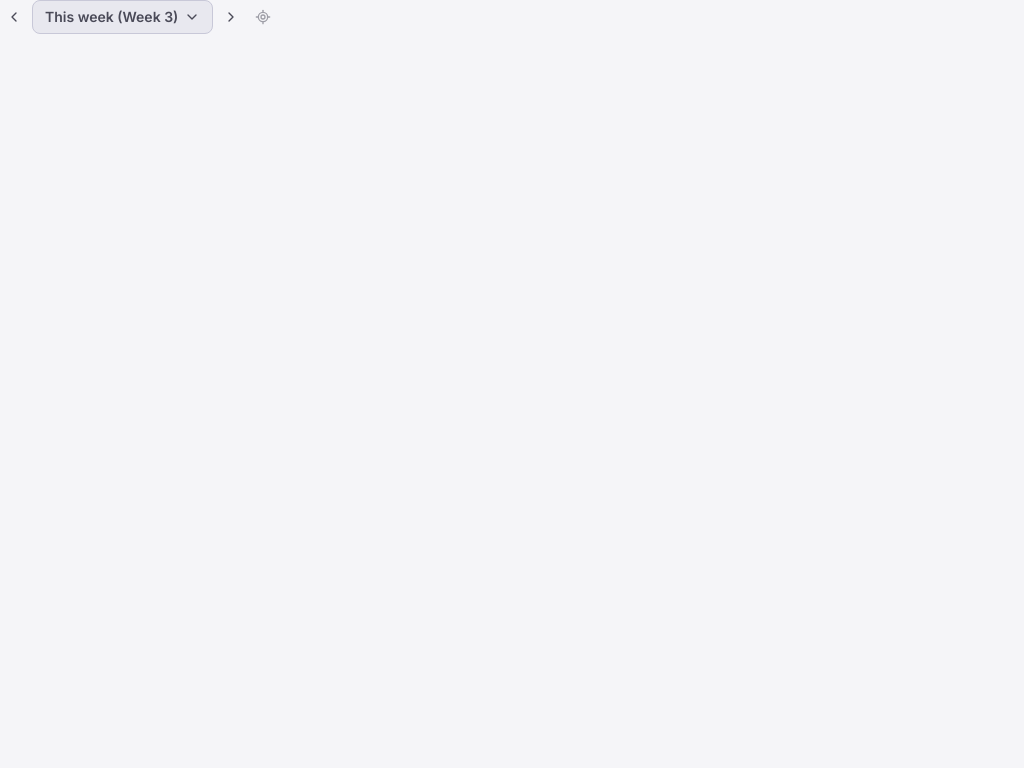
Test case: WeekScopeControl › Revert week — one confirmation per path (director-ruled) › tier-identity guard — a static/tier switch mid-pre-check › CONTROL: the same harness with NO switch still opens the summary modal
Press Enter in the button "This week (Week 3)", box top-left (32, 0), bottom-right (213, 34)
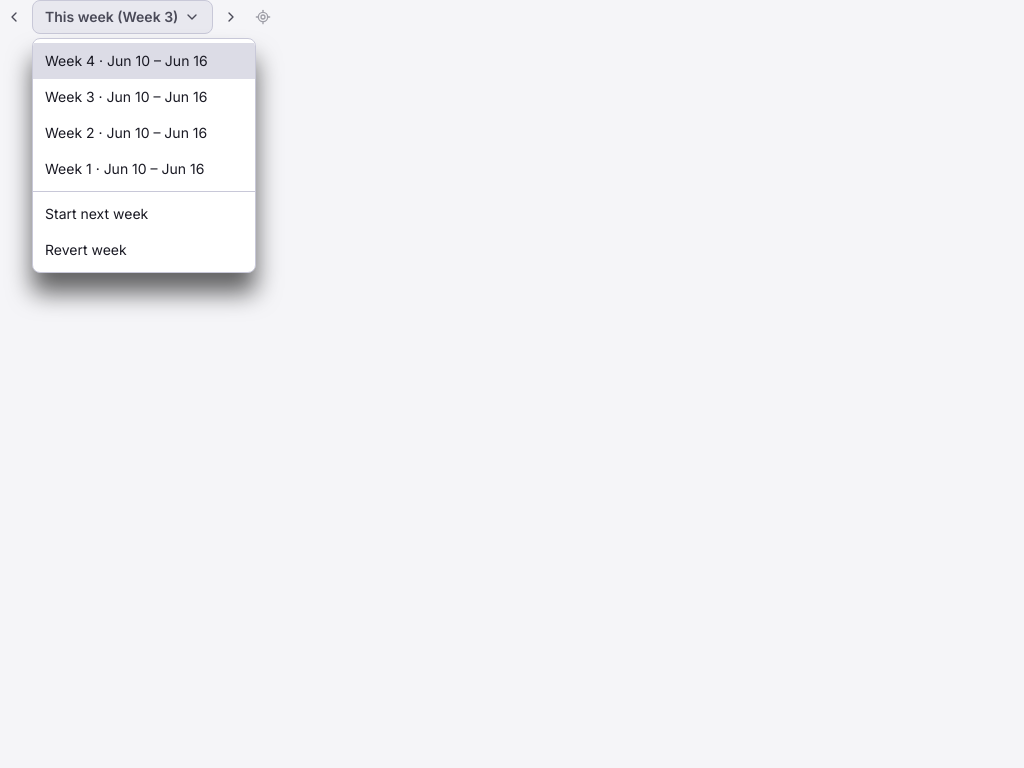
Click the menu item "Revert week" at (86, 250), box top-left (45, 241), bottom-right (127, 258)
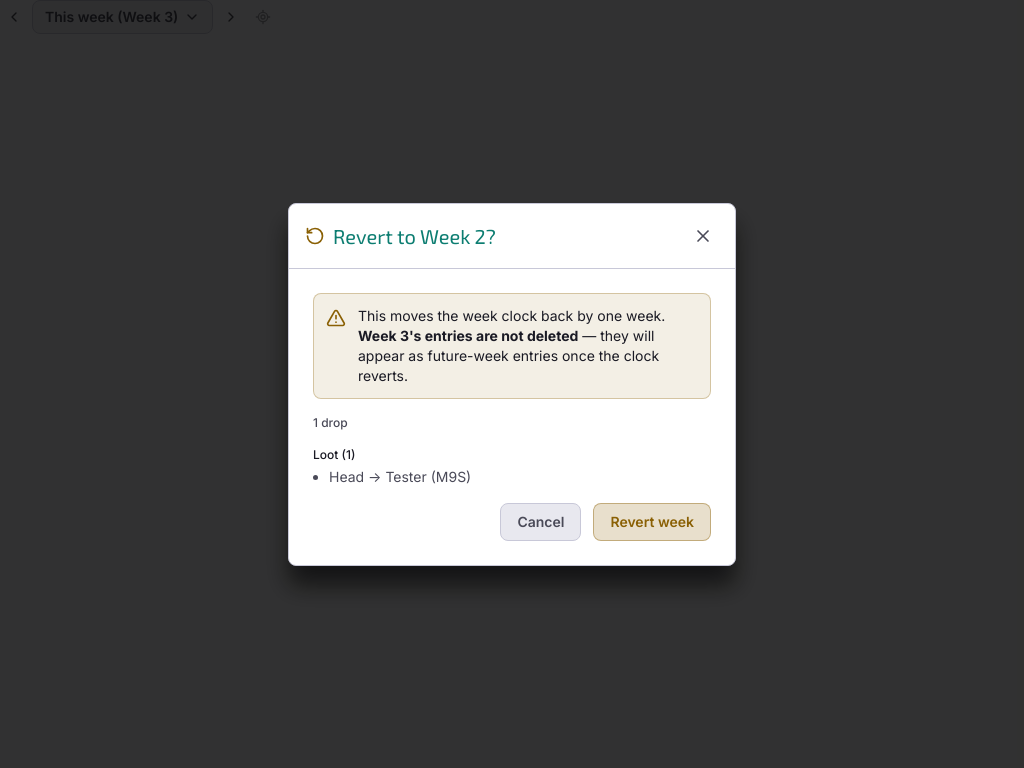
Now the text "Revert to Week 2?" is shown, box top-left (305, 222), bottom-right (496, 250)
